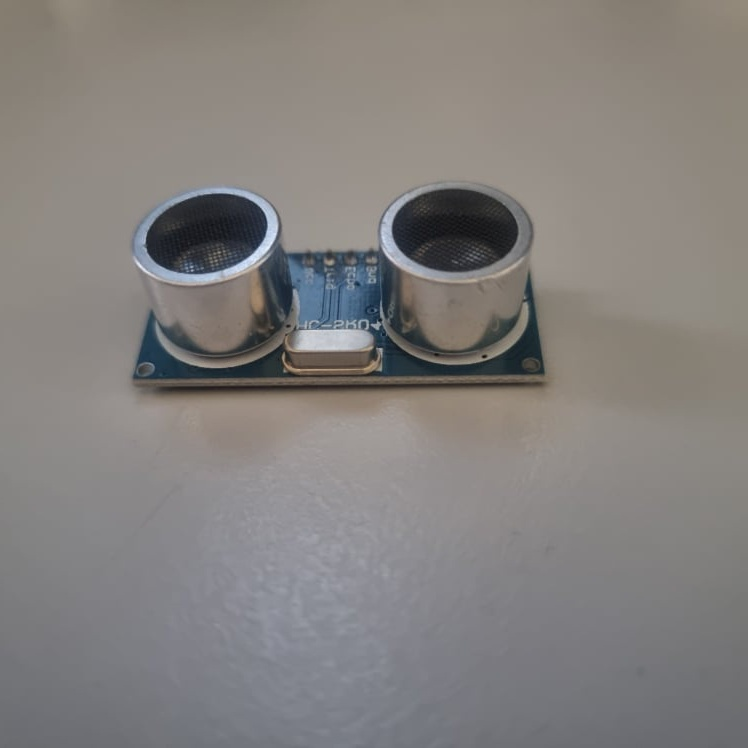SENSOR: (127, 179, 548, 387)
